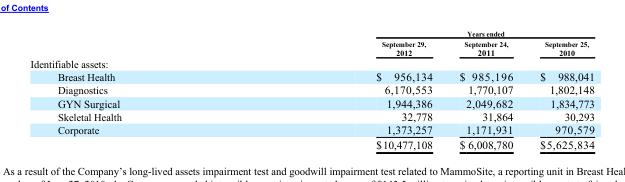table: (29, 29, 593, 150)
table column: (29, 29, 248, 150), (248, 29, 445, 150), (445, 29, 525, 150), (525, 29, 593, 150)
table column header: (29, 29, 593, 57)
table projected row header: (29, 57, 593, 69)
table row: (29, 38, 593, 57), (29, 82, 593, 96), (29, 122, 593, 136), (29, 136, 593, 150), (29, 69, 593, 82), (29, 96, 593, 109), (29, 109, 593, 122), (29, 57, 593, 69), (29, 29, 593, 38)
table spanning cell: (248, 29, 593, 38)
